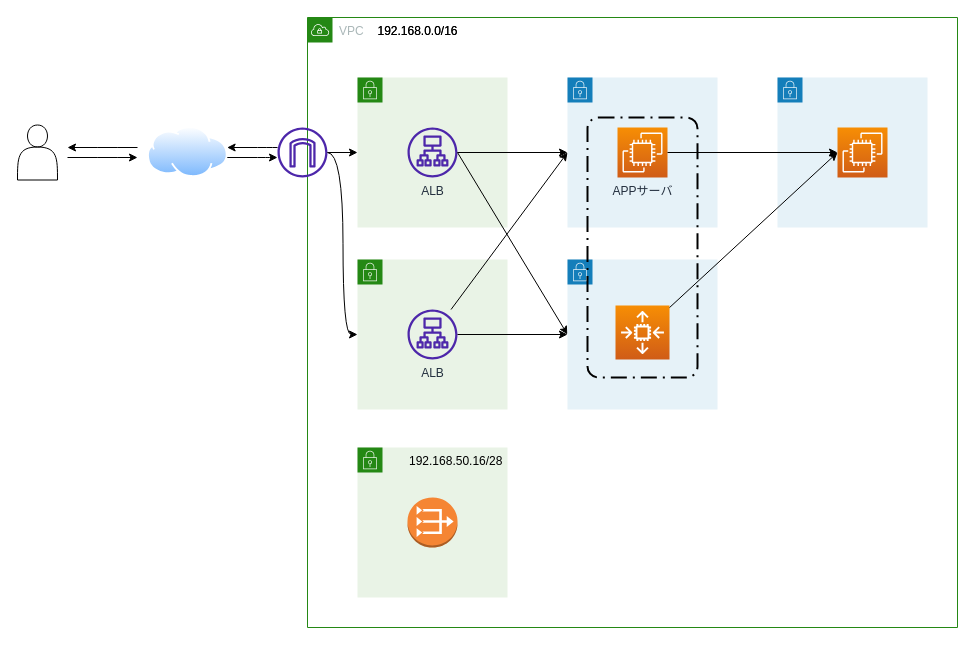
Image size: 975x645. Some labels were removed from this diagram. The box of each missing label's shape, as (x1, y1, x2, y2) in pixels:
DBサーバ: (836, 126, 888, 178)
NAT gateway: (406, 496, 458, 548)
